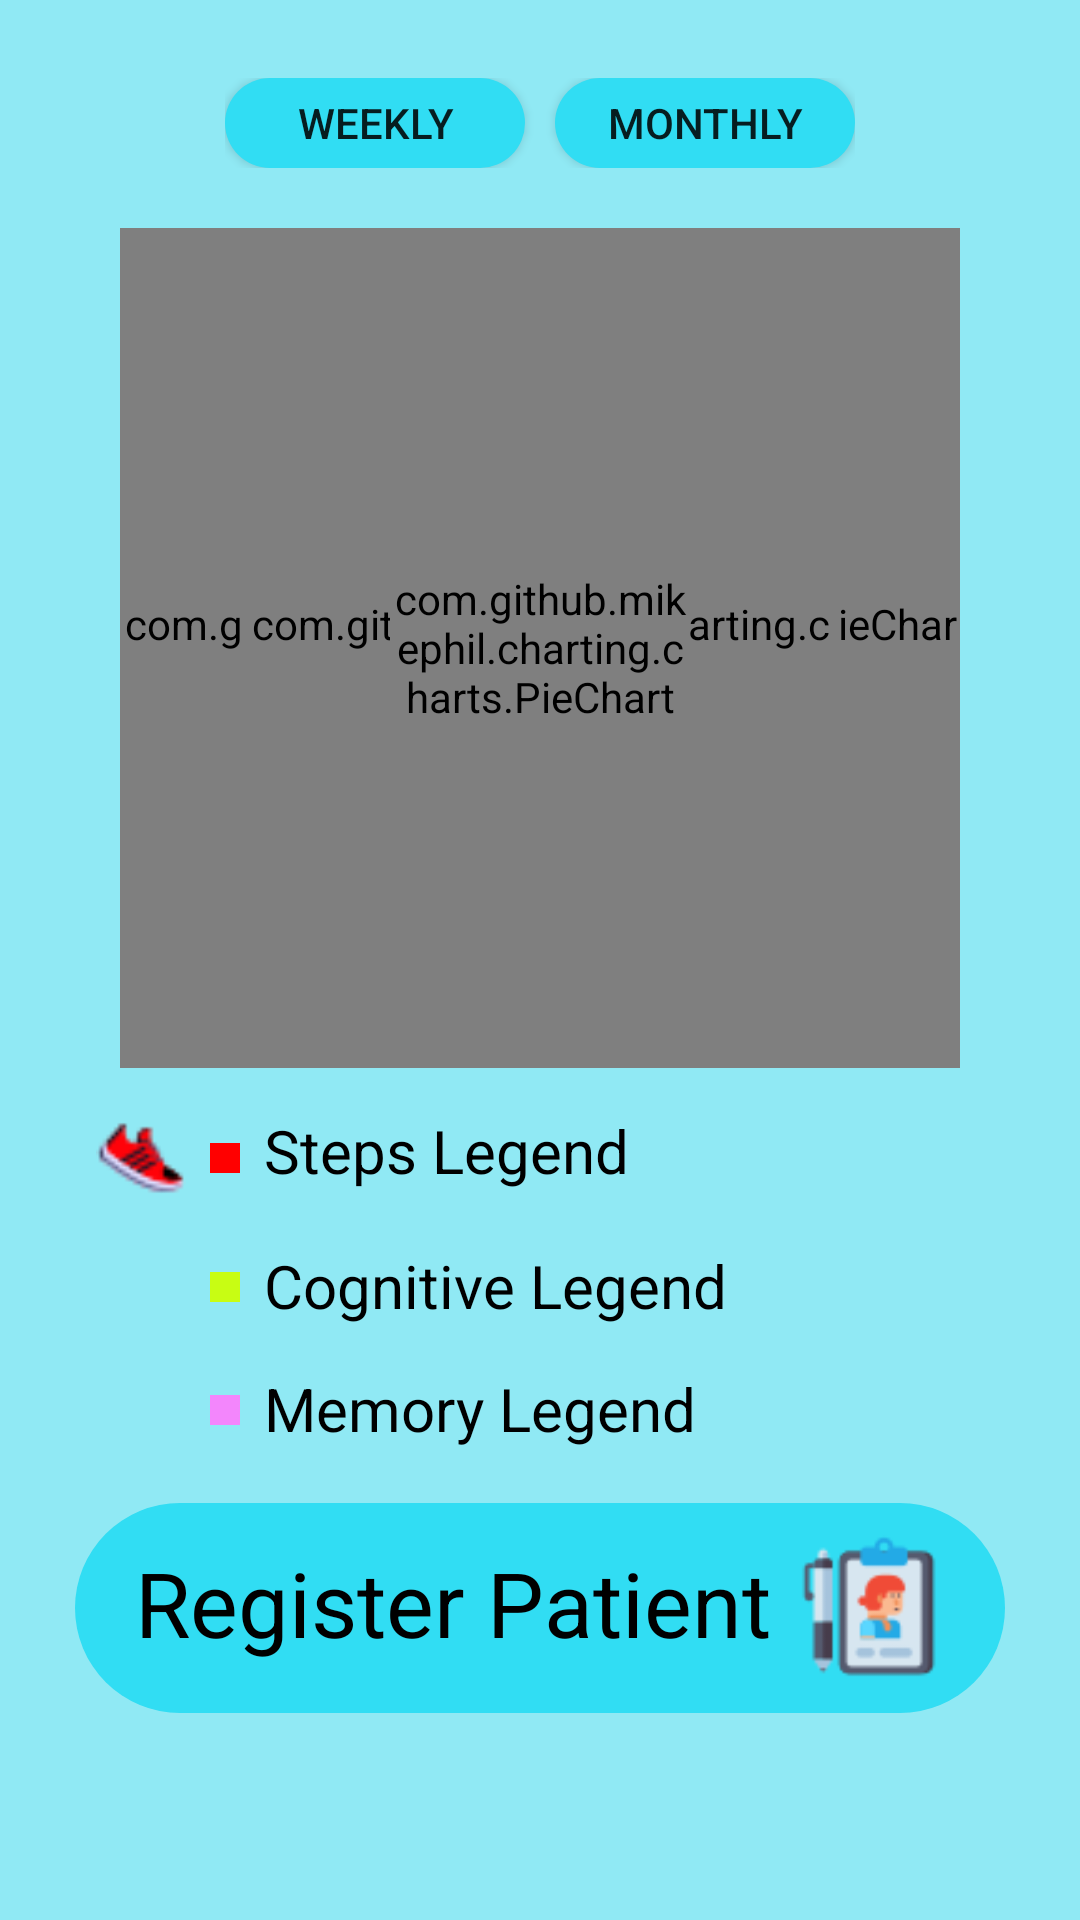

Screen size 1080w x 1920h. Icon name, then its box in pixels as (x1,y1,x2,y2):
reggs: (803,1538,935,1676)
